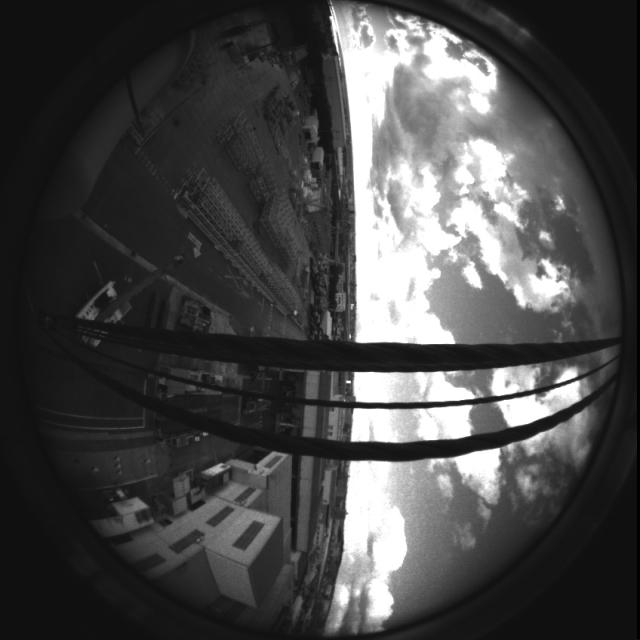rope: (17, 309, 634, 470)
sky: (321, 3, 623, 638)
